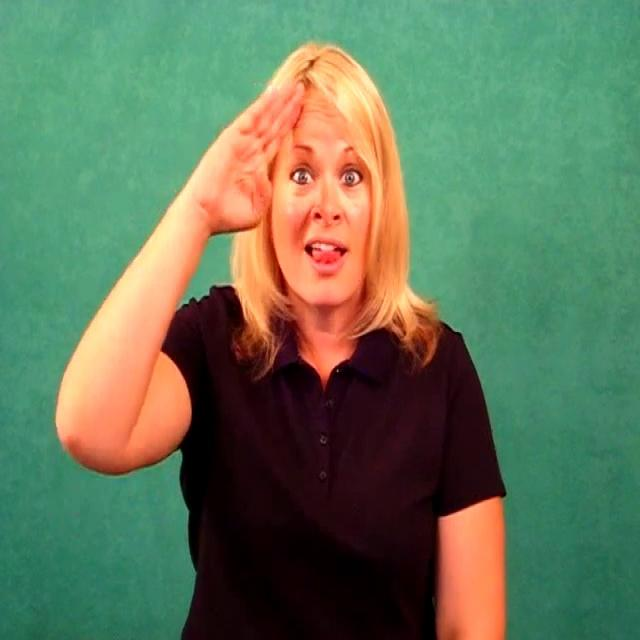hello: (194, 72, 404, 308)
